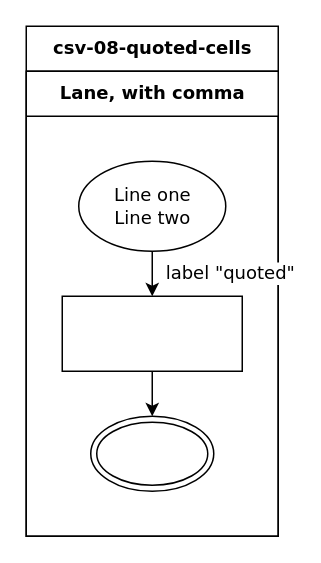
The diagram is 321 pixels wide and 563 high, and some of its shapes have lost their labels. The shapes that lost their labels are listed below. From the top down, each one's centre as x and y in pixels, then its label:
the point at 151,333: has br tag
the point at 151,453: Done
